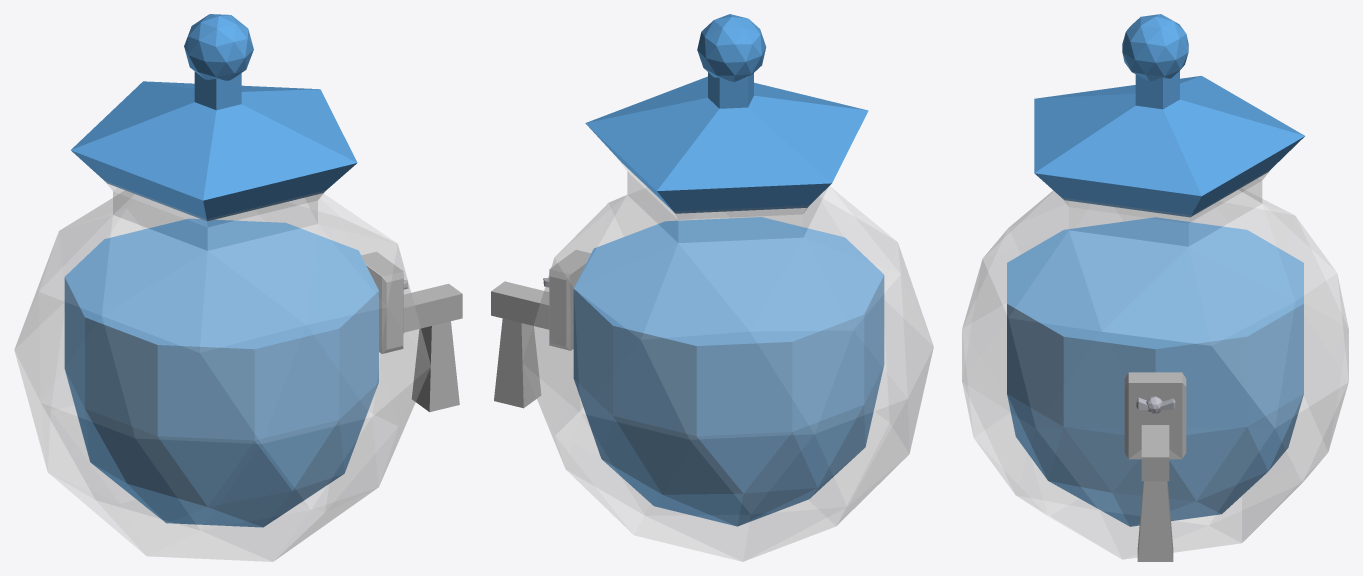
The model's file is rgb_blue.fbx.
The picture shows the model from 3 angles, left to right: view 1: azimuth 30°, elevation 25°; view 2: azimuth 150°, elevation 25°; view 3: azimuth 270°, elevation 25°; orthographic projection.
Visible parts, largest first — view 1: Bottle, potion.001, Lid, Spout.001; view 2: Bottle, potion.001, Lid, Spout.001; view 3: Bottle, potion.001, Lid, Spout.001, knob.
Part boxes in pixels (left/top/right/bottom): Bottle: left=14, top=181, right=430, bottom=561; potion.001: left=64, top=218, right=378, bottom=527; Lid: left=71, top=14, right=357, bottom=221; Spout.001: left=361, top=251, right=462, bottom=412; Bottle: left=522, top=160, right=933, bottom=561; potion.001: left=573, top=217, right=884, bottom=526; Lid: left=585, top=14, right=868, bottom=213; Spout.001: left=491, top=250, right=590, bottom=408; Bottle: left=962, top=169, right=1348, bottom=559; potion.001: left=1007, top=217, right=1303, bottom=526; Lid: left=1034, top=14, right=1304, bottom=217; Spout.001: left=1124, top=372, right=1186, bottom=561; knob: left=1136, top=396, right=1175, bottom=413.
Size of the model in its own units: 89.5 by 104 by 73.12.
